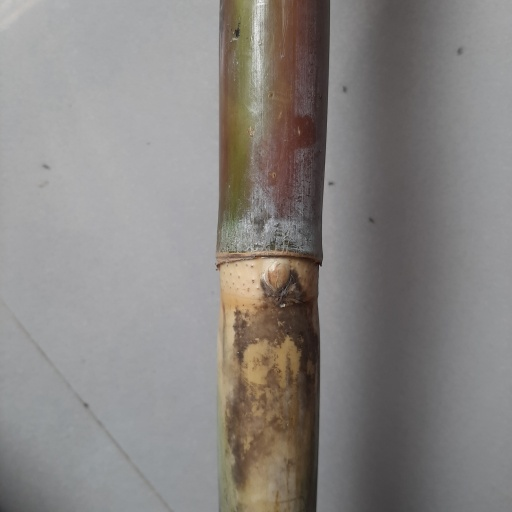Bud: (264, 259, 290, 294)
